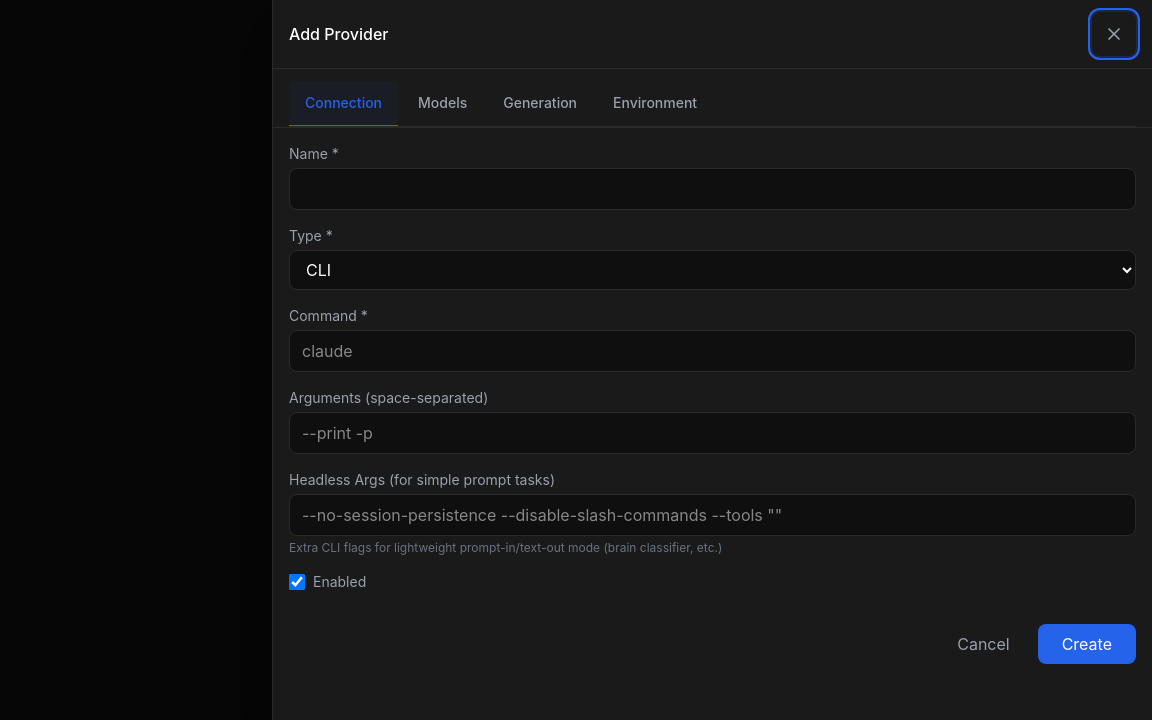
Test: ProviderForm › blocks submit on an out-of-range numeric field and reveals the tab that owns it
Type "Example Provider" into the field labelled "Name *" at (712, 189), box left=289, top=168, right=1136, bottom=210
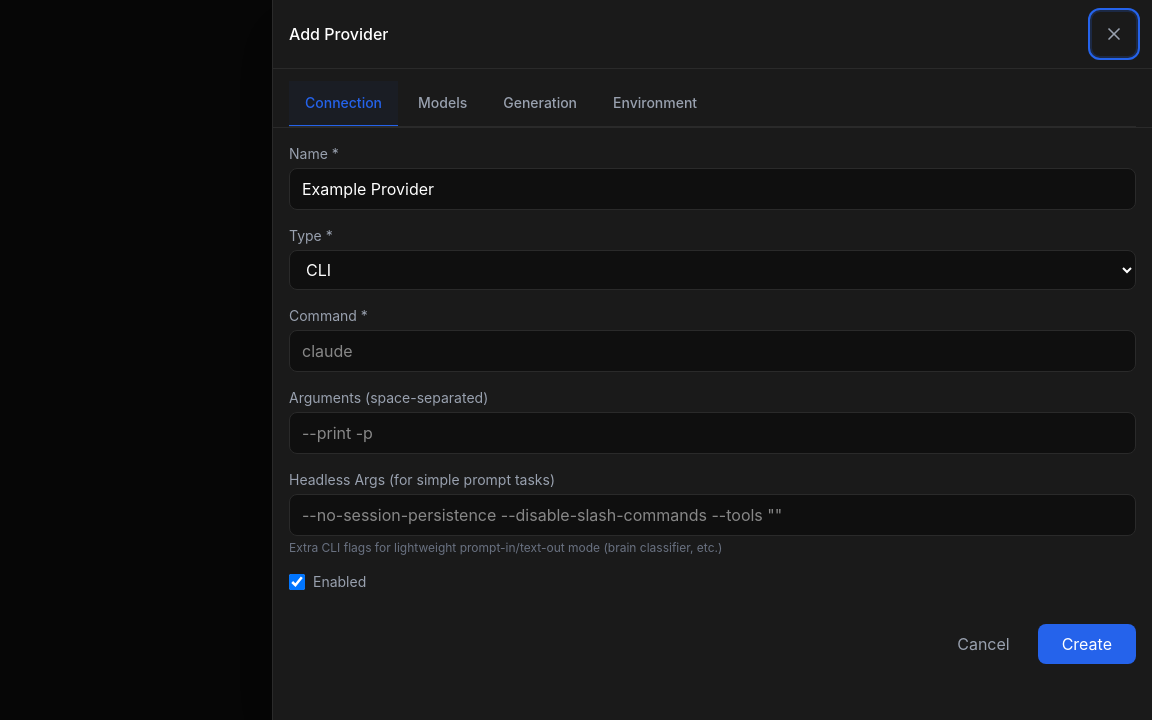
Type "echo" into the field labelled "Command *" at (712, 351), box left=289, top=330, right=1136, bottom=372
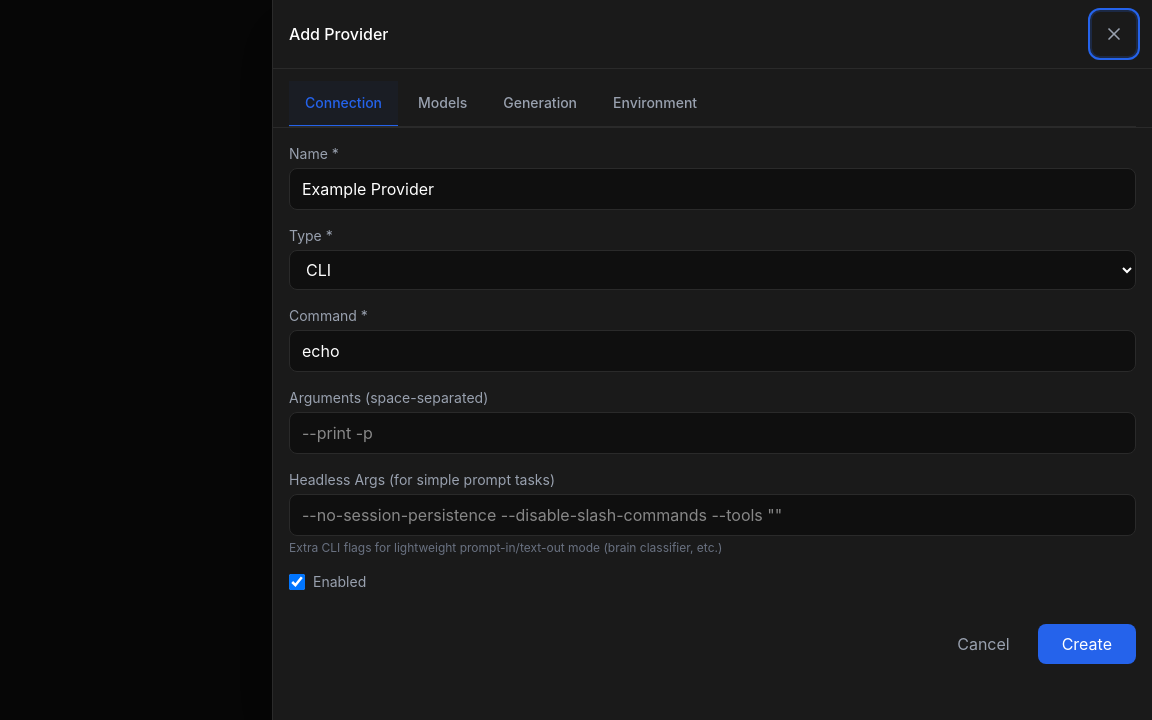
Click the tab "Generation" at (540, 104), box left=487, top=81, right=593, bottom=127
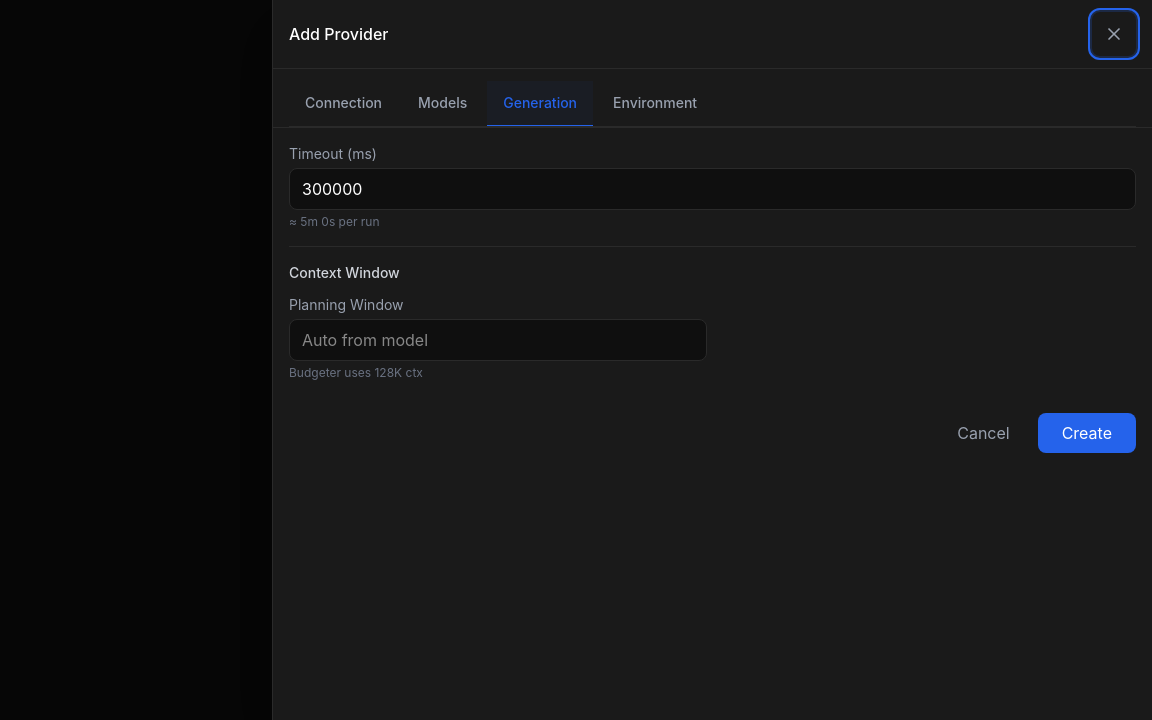
Type "10" into the number field labelled "Planning Window" at (498, 340), box left=289, top=319, right=706, bottom=361
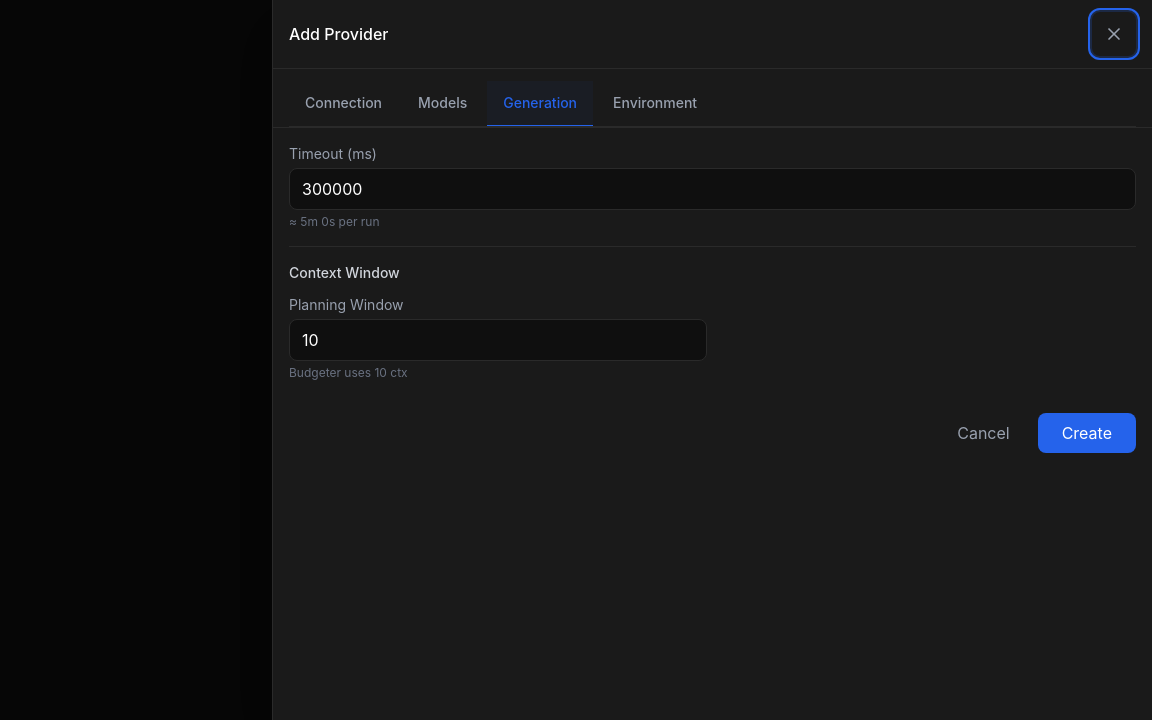
Click the tab "Connection" at (344, 104), box left=289, top=81, right=398, bottom=127
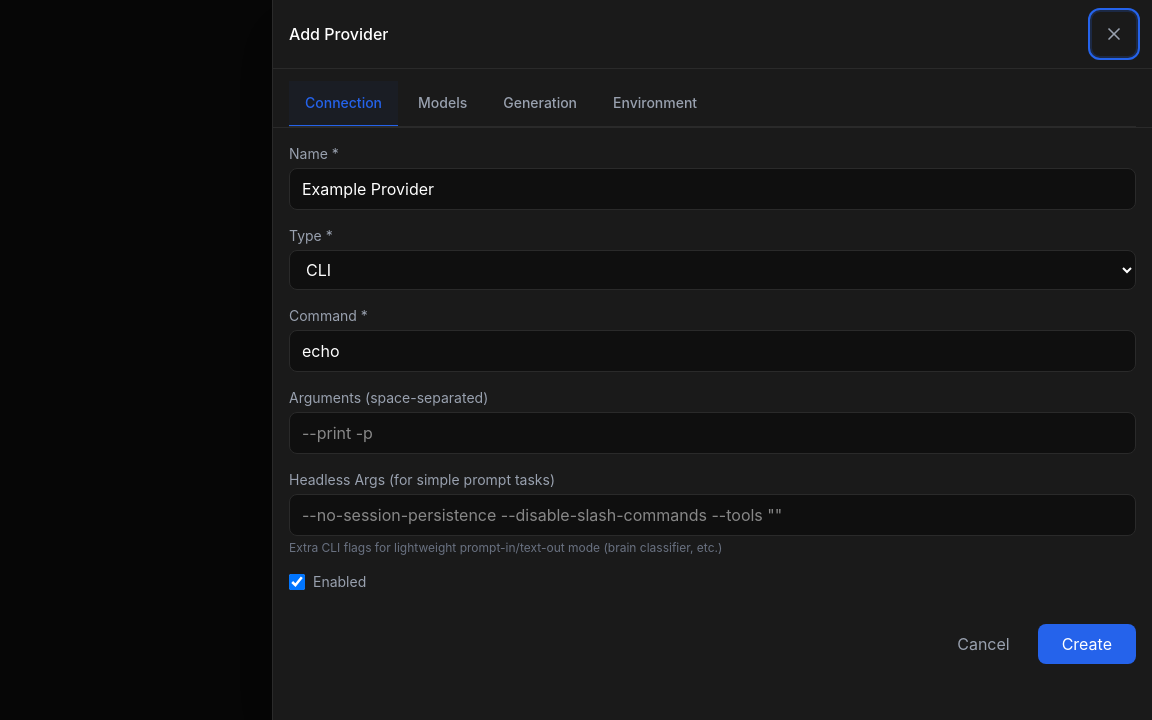
Click the button "Create" at (1087, 644), box left=1038, top=624, right=1136, bottom=664
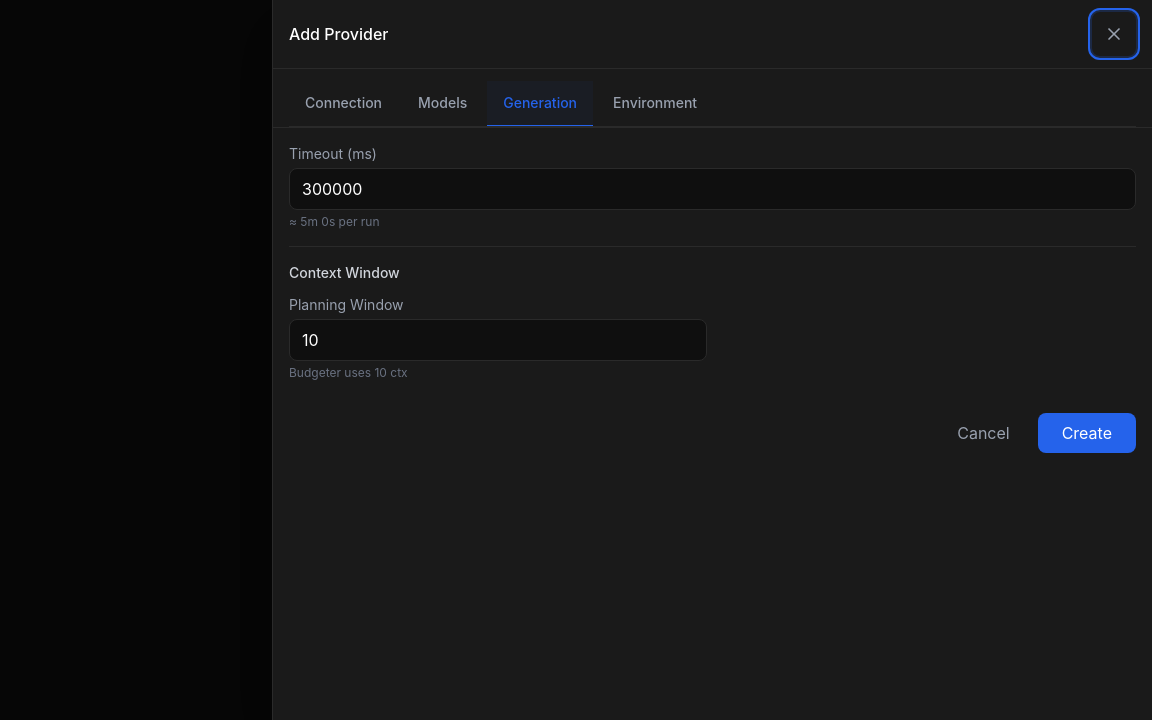
Expected: the number field labelled "Planning Window" is shown, left=289, top=319, right=706, bottom=361
